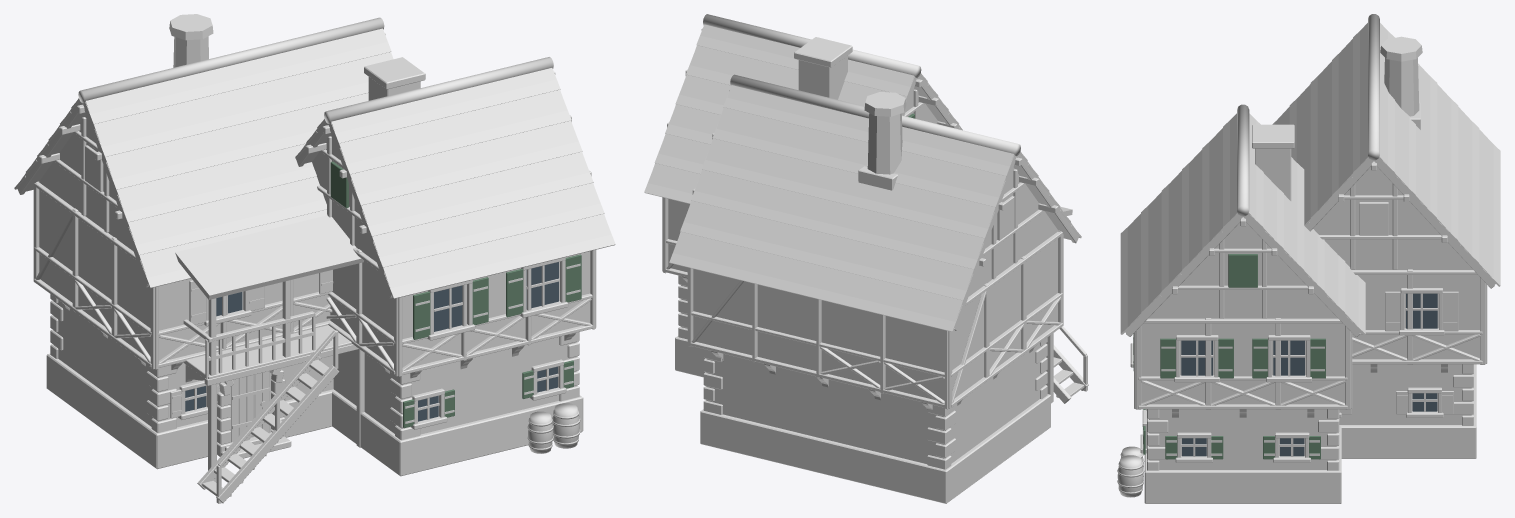
The model's file is col_22_plan_en_L_cour.fbx.
3 renders of one model, left to right at view 1: azimuth 30°, elevation 25°; view 2: azimuth 150°, elevation 25°; view 3: azimuth 270°, elevation 25°, orthographic. The views are drawn at different scales.
Visible parts, largest first — view 1: col_22_plan_en_L_cour_LOD0; view 2: col_22_plan_en_L_cour_LOD0; view 3: col_22_plan_en_L_cour_LOD0.
Boxes of the visible parts, <box> form: col_22_plan_en_L_cour_LOD0: <box>14,14,615,503</box>; col_22_plan_en_L_cour_LOD0: <box>644,14,1088,503</box>; col_22_plan_en_L_cour_LOD0: <box>1117,14,1500,503</box>.
Size of what is drawn, in the model's own units: 10.64 by 9.3 by 9.37.
